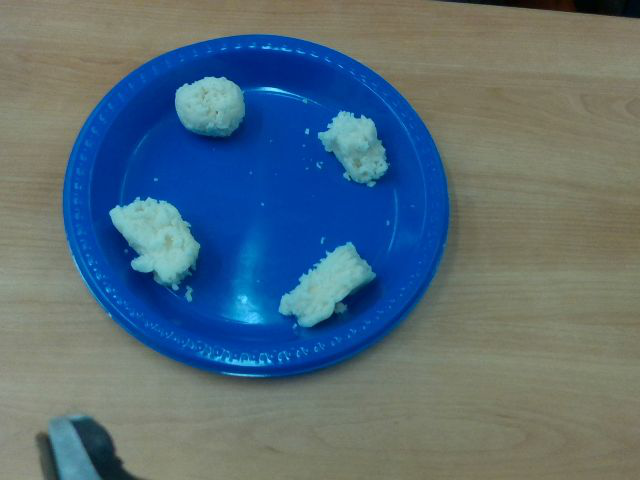mashed_potato: (280, 242, 376, 330), (110, 199, 200, 282), (320, 111, 389, 181), (176, 76, 245, 135)
